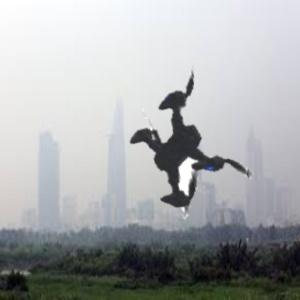drone: (42, 21, 300, 280)
